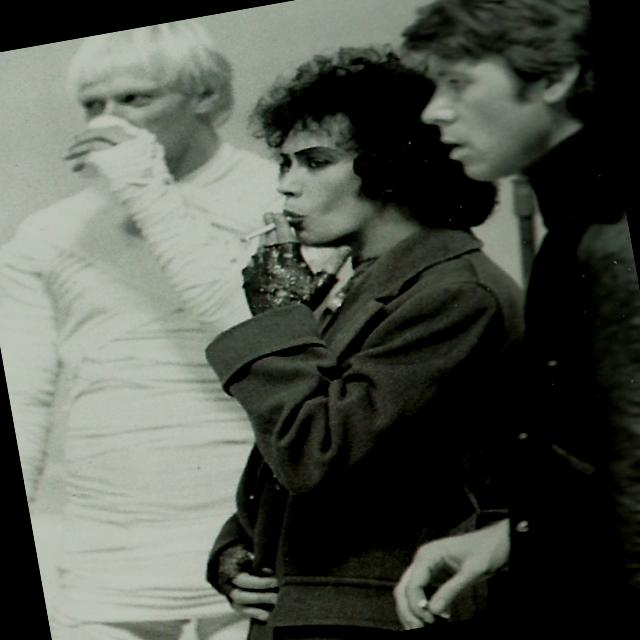cigarette: (238, 212, 296, 242)
